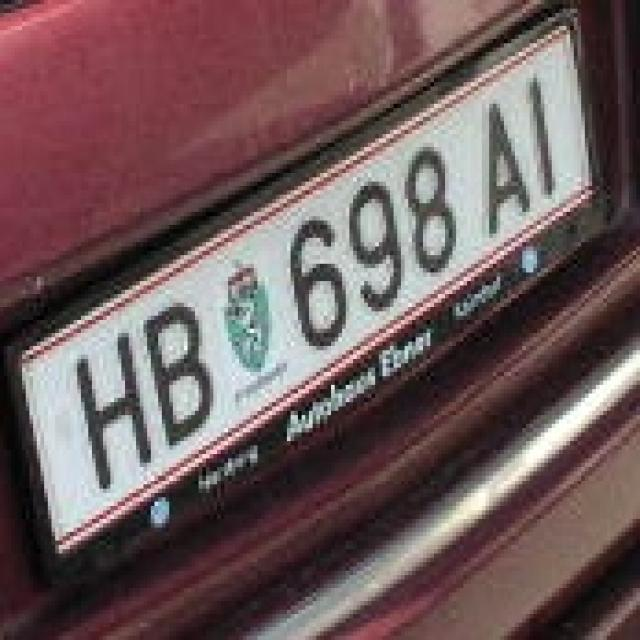6: (280, 220, 356, 346)
8: (401, 147, 456, 272)
9: (346, 182, 401, 316)
A: (474, 99, 537, 238)
B: (136, 311, 217, 441)
H: (63, 333, 147, 484)
